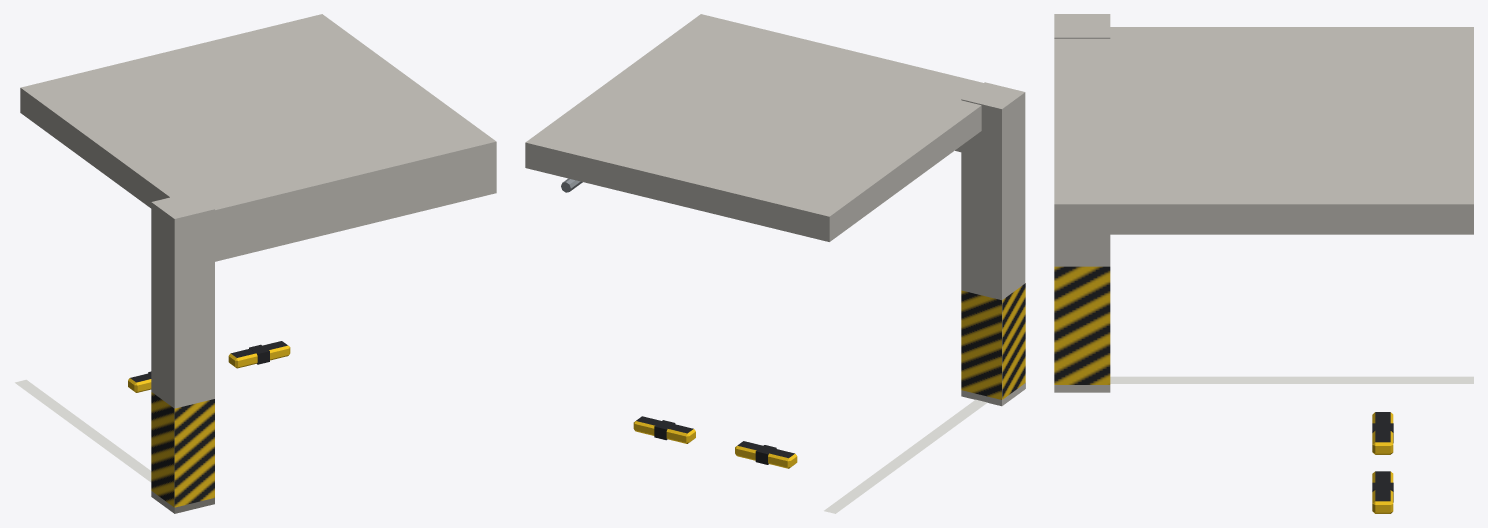
Rendered from SC_Bld_Villa_Pilotis_Bay_3x3_Back.gltf.
The picture shows the model from 3 angles, left to right: view 1: azimuth 30°, elevation 25°; view 2: azimuth 150°, elevation 25°; view 3: azimuth 270°, elevation 25°; orthographic projection. The views are drawn at different scales.
Parts seen in each view (by area): view 1: SC_Bld_Villa_Pilotis_Bay_3x3_Back; view 2: SC_Bld_Villa_Pilotis_Bay_3x3_Back; view 3: SC_Bld_Villa_Pilotis_Bay_3x3_Back.
Boxes of the visible parts, x1,y1,x2,y2 form: SC_Bld_Villa_Pilotis_Bay_3x3_Back: (15,14,496,513); SC_Bld_Villa_Pilotis_Bay_3x3_Back: (525,14,1025,513); SC_Bld_Villa_Pilotis_Bay_3x3_Back: (1054,14,1473,513).
Size of the model in its own units: 3.2 by 2.8 by 3.
3 materials, 3 textured.
